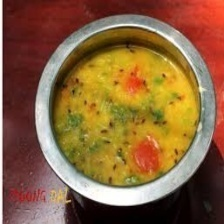dal: (49, 42, 200, 188)
